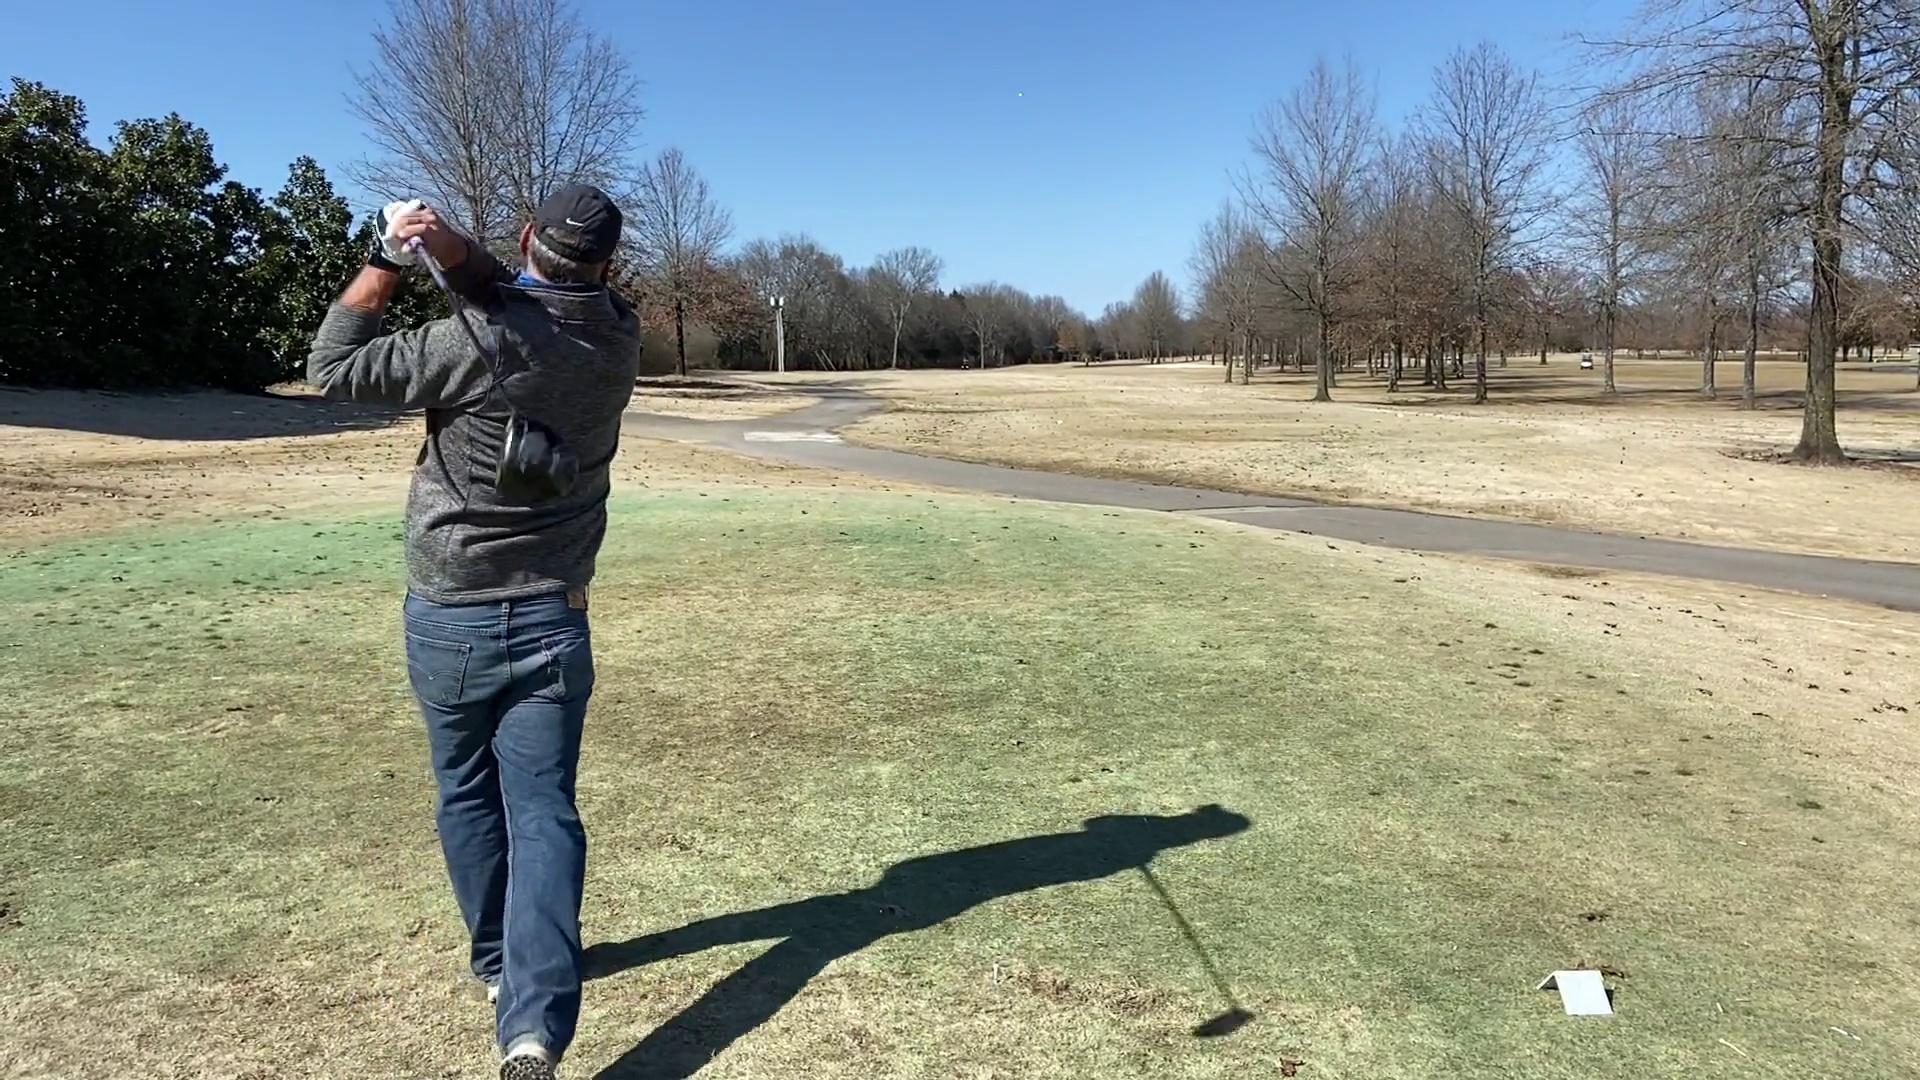ClubHead: (491, 400, 582, 516)
